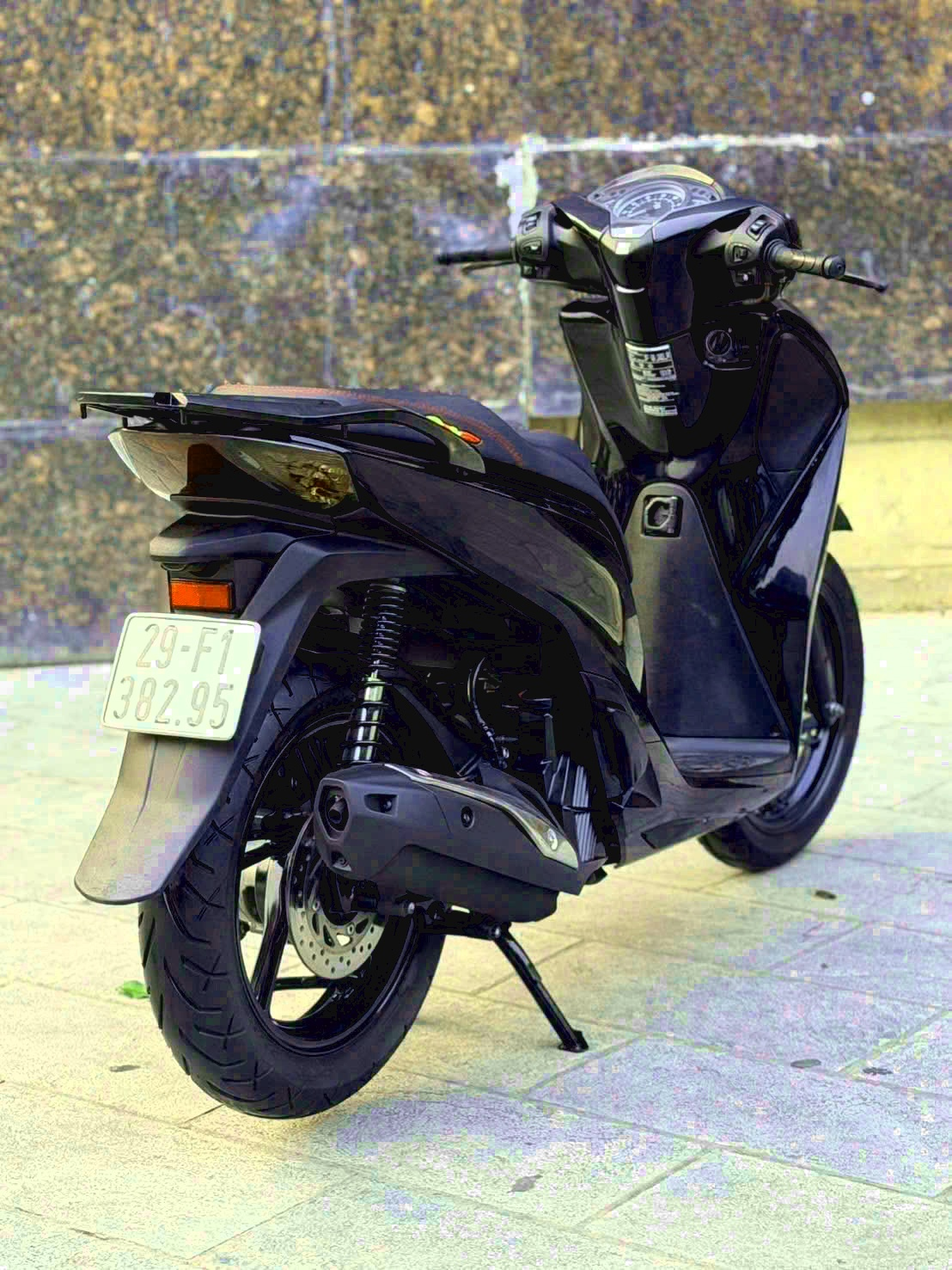Bien-so: (61, 605, 226, 739)
